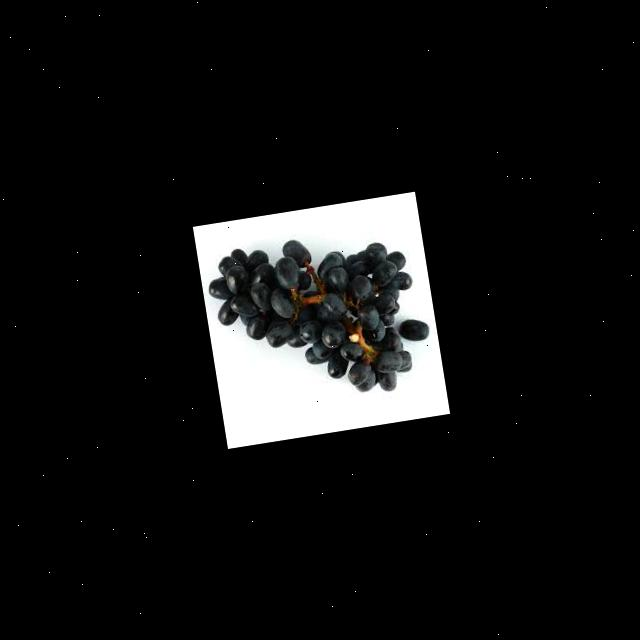grape: (202, 219, 436, 416)
